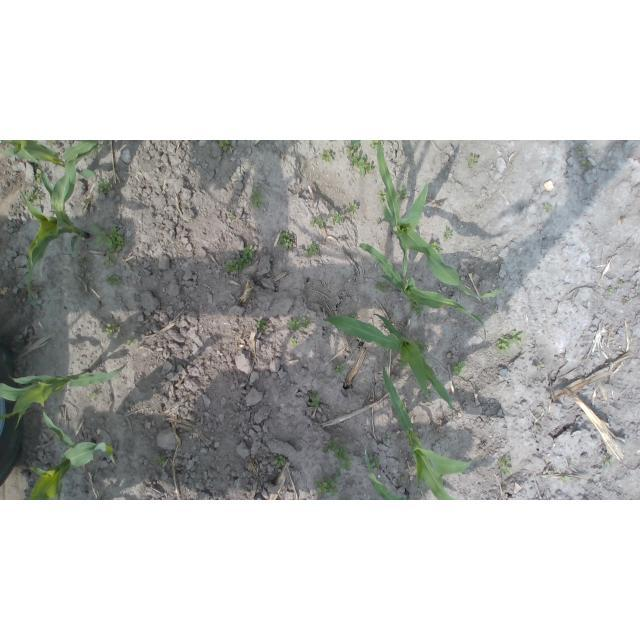Maize: (377, 140, 503, 300), (324, 311, 457, 410), (360, 242, 487, 338), (19, 140, 89, 314), (382, 364, 471, 500), (0, 363, 126, 429), (27, 410, 116, 500), (2, 140, 99, 180), (363, 445, 403, 500)
Weeds: (323, 440, 354, 471), (315, 476, 340, 497), (351, 155, 374, 177), (91, 225, 113, 247), (108, 226, 125, 252), (250, 188, 264, 209), (494, 335, 510, 353), (409, 298, 424, 317), (242, 244, 255, 265), (226, 259, 245, 273), (347, 141, 362, 158), (280, 231, 293, 249), (103, 322, 117, 338), (500, 457, 513, 474), (104, 276, 121, 289), (330, 211, 345, 225), (430, 241, 445, 255), (511, 330, 524, 346), (308, 392, 320, 409), (97, 179, 111, 193), (397, 188, 412, 201), (452, 361, 465, 376), (415, 340, 429, 353), (34, 169, 46, 184), (368, 456, 381, 469), (288, 317, 300, 331), (275, 454, 287, 468), (332, 362, 347, 373), (397, 356, 409, 369), (306, 244, 319, 256), (320, 150, 332, 163), (27, 191, 41, 202), (218, 140, 230, 152), (314, 217, 326, 229), (104, 255, 117, 266), (375, 282, 389, 292), (299, 315, 309, 329), (155, 454, 168, 464), (257, 320, 267, 332), (347, 203, 358, 213), (603, 455, 613, 466), (125, 337, 135, 347), (444, 228, 452, 240), (468, 156, 478, 165), (378, 190, 386, 201), (87, 392, 97, 400), (290, 336, 297, 347), (78, 255, 86, 264), (370, 140, 378, 148), (545, 204, 552, 213), (351, 312, 358, 320), (581, 159, 590, 165), (536, 361, 544, 367), (230, 212, 235, 220), (607, 287, 613, 293), (336, 470, 341, 476), (23, 191, 28, 197), (562, 476, 567, 481), (619, 280, 624, 285), (47, 140, 53, 144), (455, 384, 460, 388), (376, 220, 380, 225), (476, 206, 480, 211), (310, 221, 314, 226), (581, 148, 586, 152)
